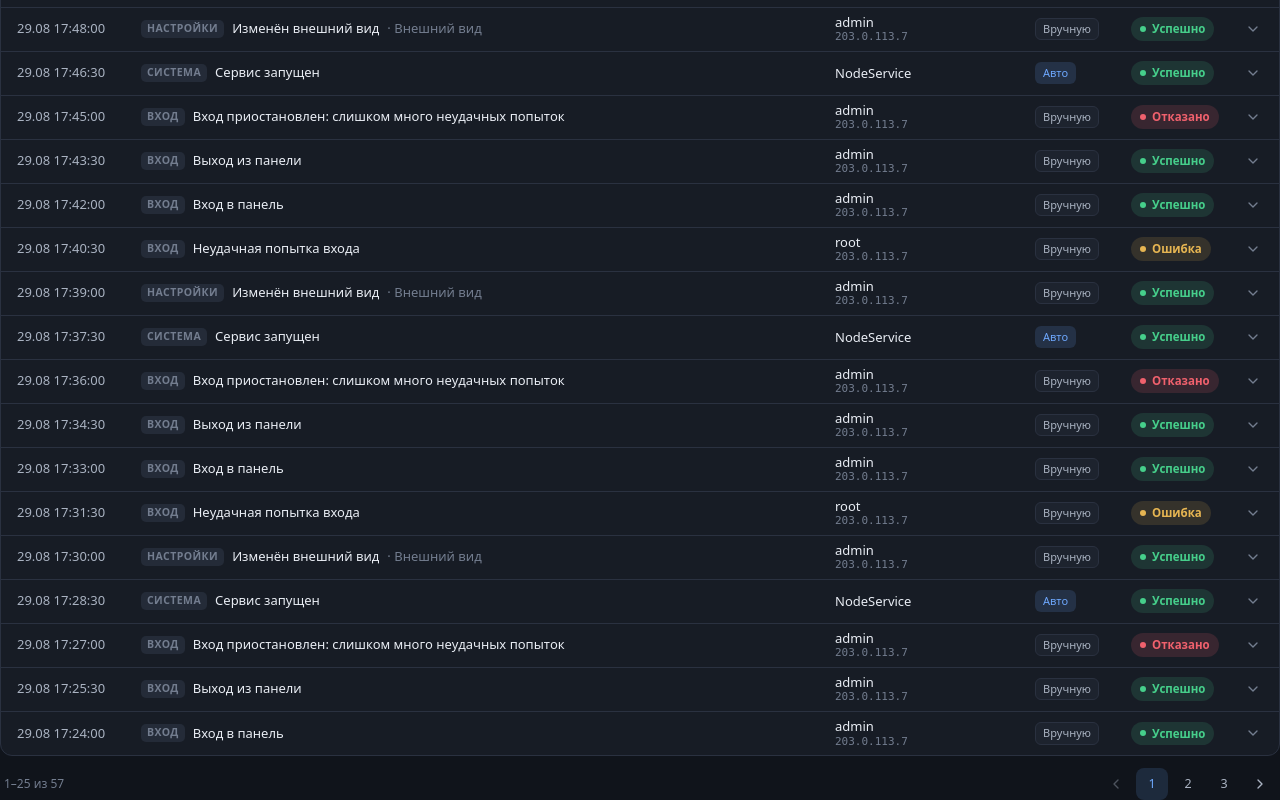
Test: AuditPage › переход по номеру страницы
(page scrolled)
Expected: the text "1–25 из 57" is shown, [4,775,64,793]
Click the button "3" at x=1224, y=784, box [1208,768,1240,799]
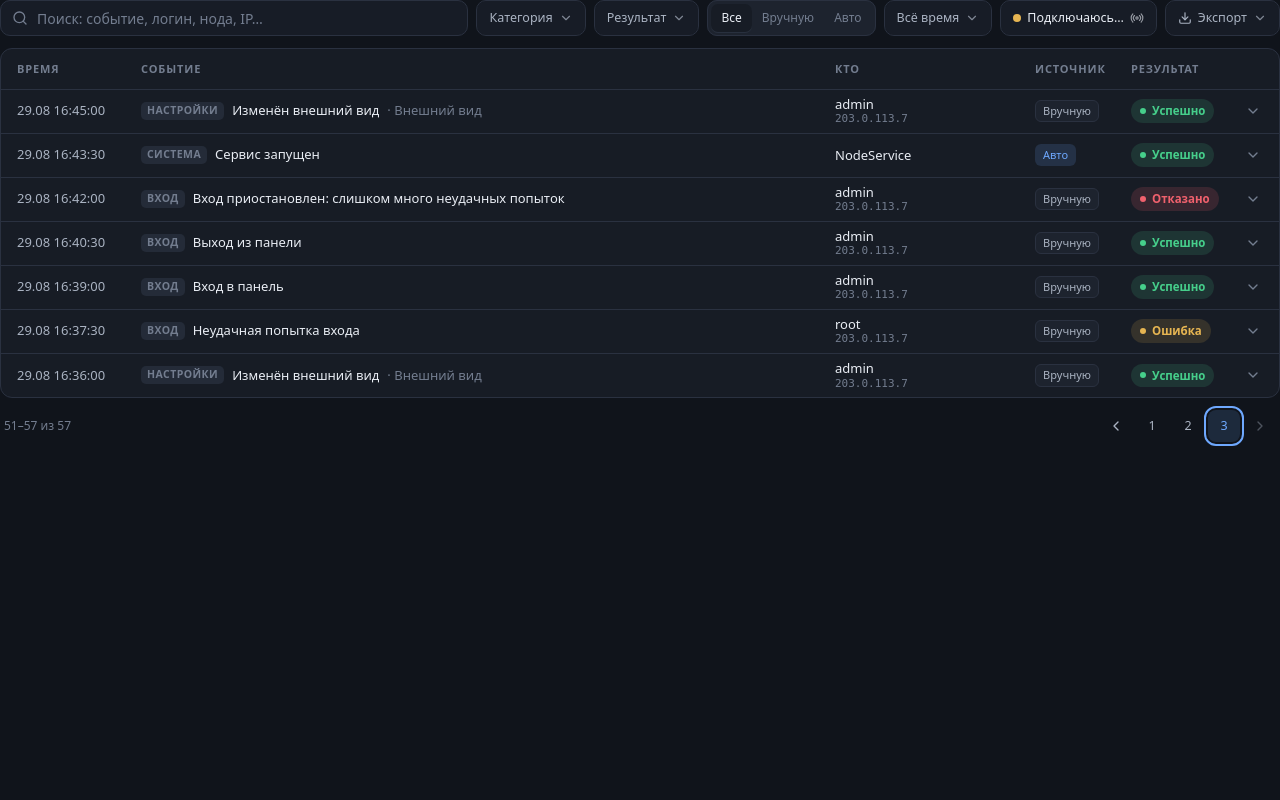
Now the text "51–57 из 57" is shown, box [4,417,71,435]
